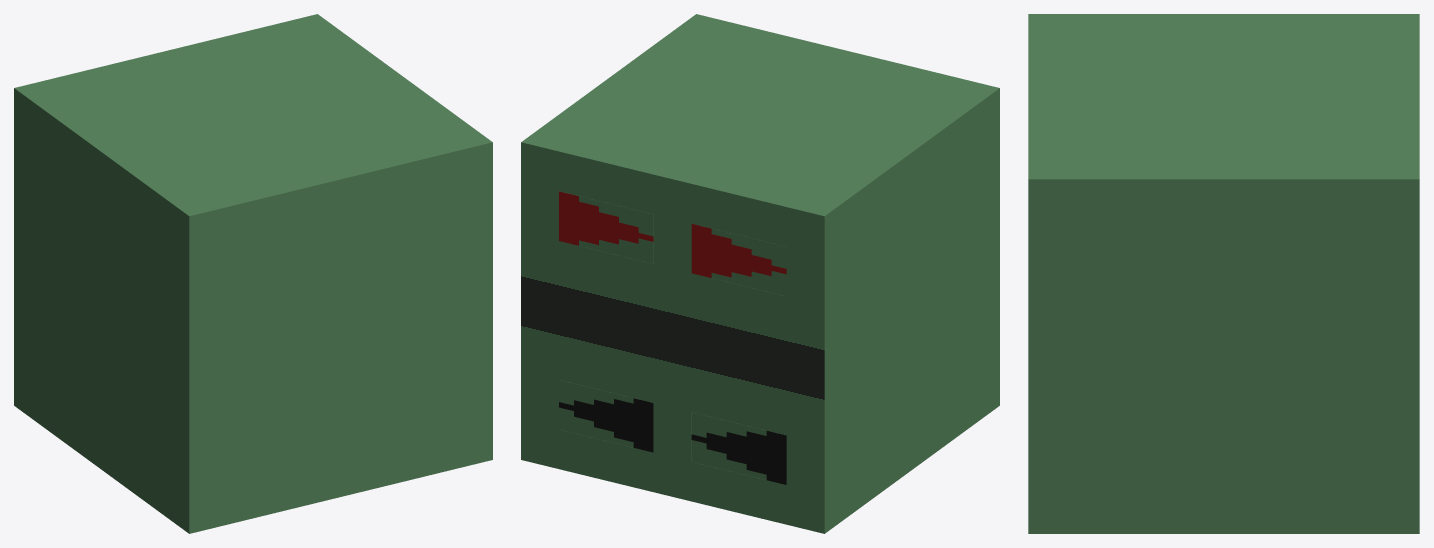
The model's file is streckenblock.obj.
3 views of the same model, side by side, from view 1: azimuth 30°, elevation 25°; view 2: azimuth 150°, elevation 25°; view 3: azimuth 270°, elevation 25° (orthographic). The views are drawn at different scales.
Parts seen in each view (by area): view 1: generalCube; view 2: generalCube, bottomRightBlack, topLeftRed, topRightRed, bottomLeftBlack; view 3: generalCube.
Part boxes in pixels (x1=…): generalCube: x1=14, y1=14, x2=492, y2=533; generalCube: x1=521, y1=14, x2=999, y2=533; bottomRightBlack: x1=691, y1=412, x2=786, y2=484; topLeftRed: x1=559, y1=191, x2=653, y2=263; topRightRed: x1=691, y1=224, x2=786, y2=277; bottomLeftBlack: x1=559, y1=382, x2=653, y2=452; generalCube: x1=1028, y1=14, x2=1419, y2=533.
Size of the model in its own units: 1 by 1 by 1.
